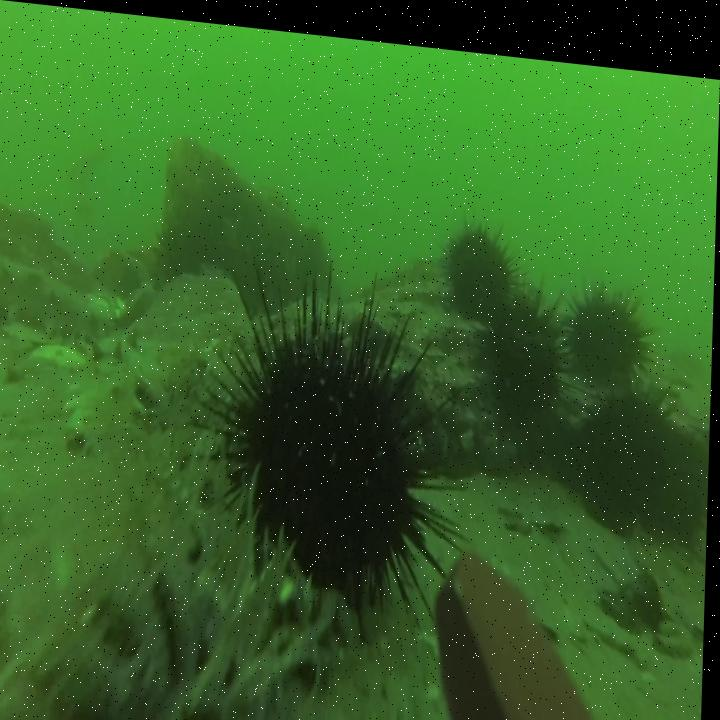echinus: (205, 267, 468, 632), (576, 381, 712, 528), (480, 263, 579, 422), (561, 267, 666, 392), (440, 200, 526, 310)
starfish: (35, 338, 89, 375)
